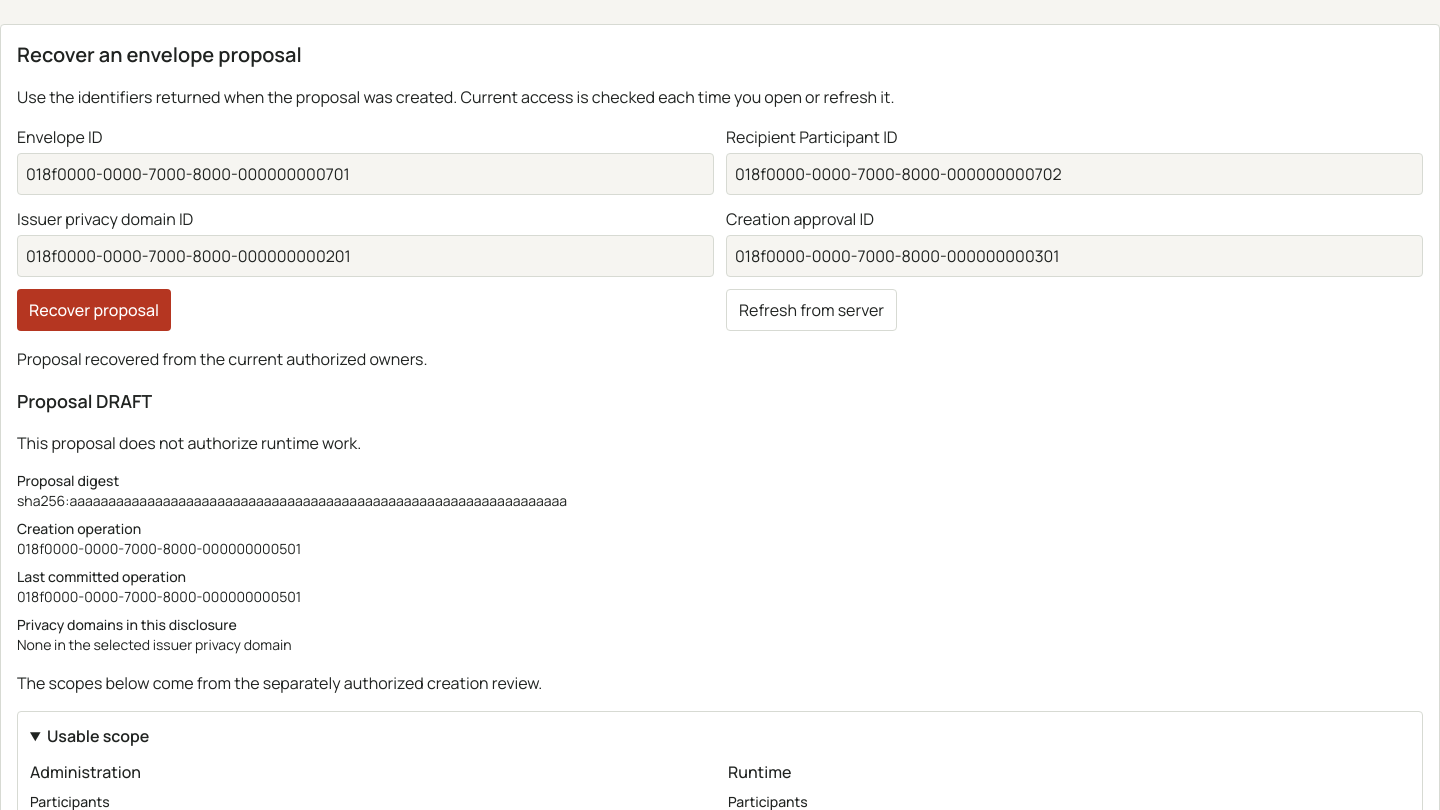
Test: removes disclosed state before refresh and keeps it removed after an authorization failure
Check: the heading "Proposal DRAFT" is shown, box [17, 389, 152, 413]
Click the button "Refresh from server" at (812, 310), box [726, 289, 897, 331]
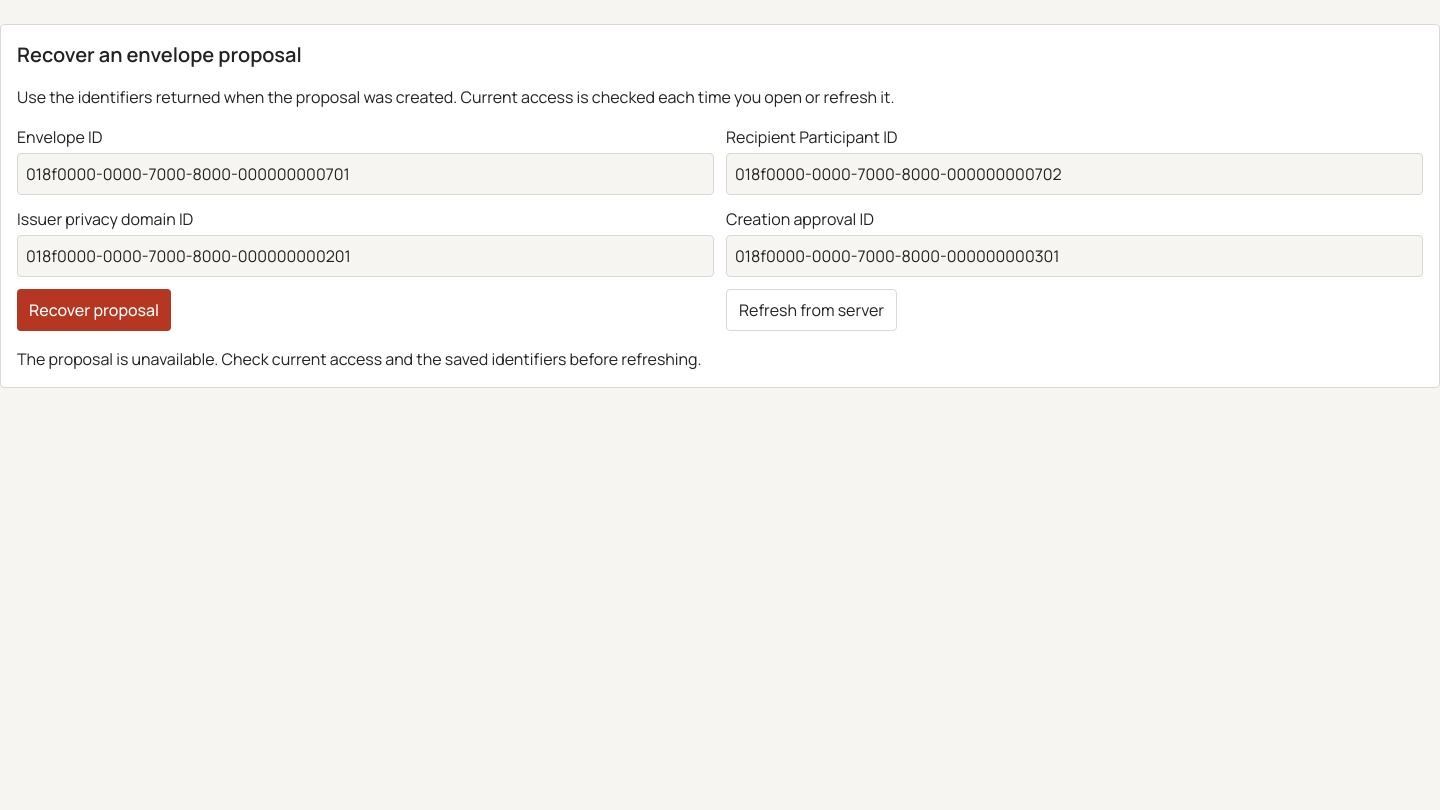
Check: the heading "Proposal DRAFT" is gone
Check: the text "The proposal is unavailable. Check current access and the saved identifiers before refreshing." is shown, box [17, 348, 702, 370]
